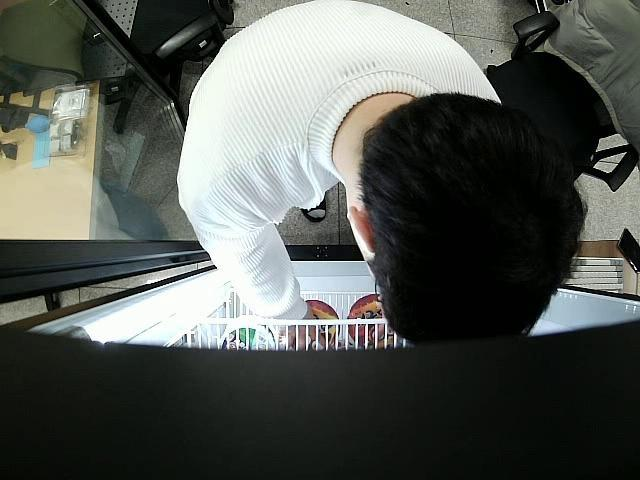05_nuguri_L: (349, 293, 392, 349), (306, 297, 339, 349)
